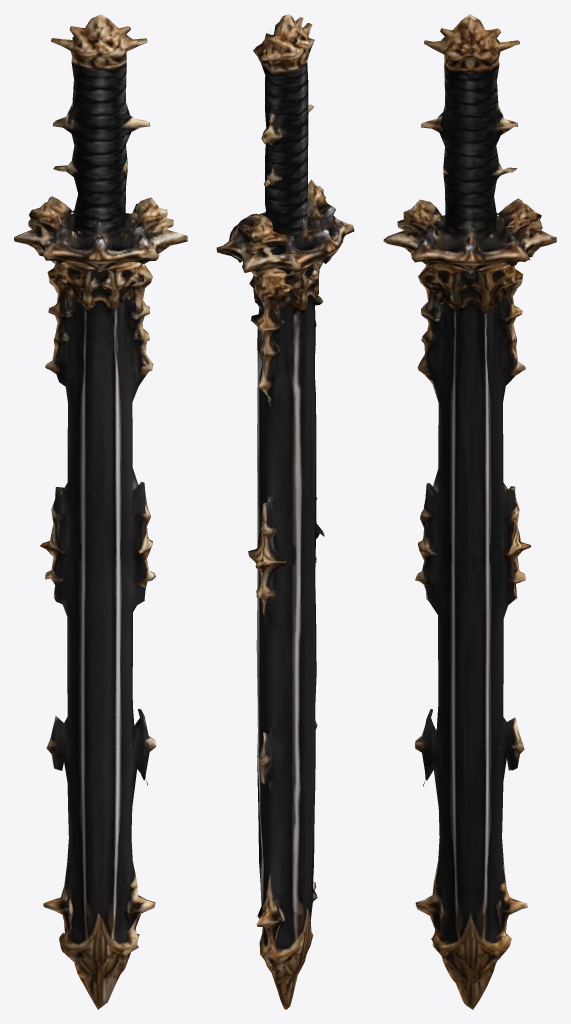
Rendered from saya.model.glb.
The picture shows the model from 3 angles, left to right: view 1: azimuth 90°, elevation 25°; view 2: azimuth 150°, elevation 25°; view 3: azimuth 270°, elevation 25°; orthographic projection.
Visible parts, largest first — view 1: tripo_node_0da8ecb7-2ead-4ec5-a6d7-51664286b83b; view 2: tripo_node_0da8ecb7-2ead-4ec5-a6d7-51664286b83b; view 3: tripo_node_0da8ecb7-2ead-4ec5-a6d7-51664286b83b.
Boxes of the visible parts, bbox=[...] form: tripo_node_0da8ecb7-2ead-4ec5-a6d7-51664286b83b: bbox=[14, 14, 187, 1009]; tripo_node_0da8ecb7-2ead-4ec5-a6d7-51664286b83b: bbox=[216, 14, 354, 1009]; tripo_node_0da8ecb7-2ead-4ec5-a6d7-51664286b83b: bbox=[383, 14, 556, 1009].
Size of the model in its own units: 0.1024 by 0.9776 by 0.1545.
Materials: 1 (1 with a texture image).
